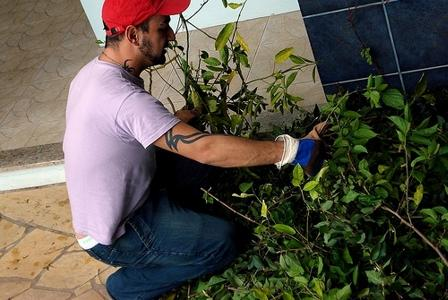person: (63, 1, 331, 300)
